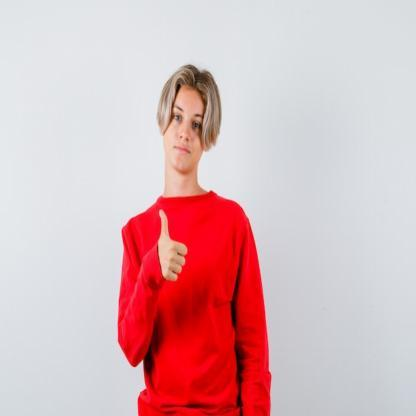thumb_up: (150, 207, 189, 286)
